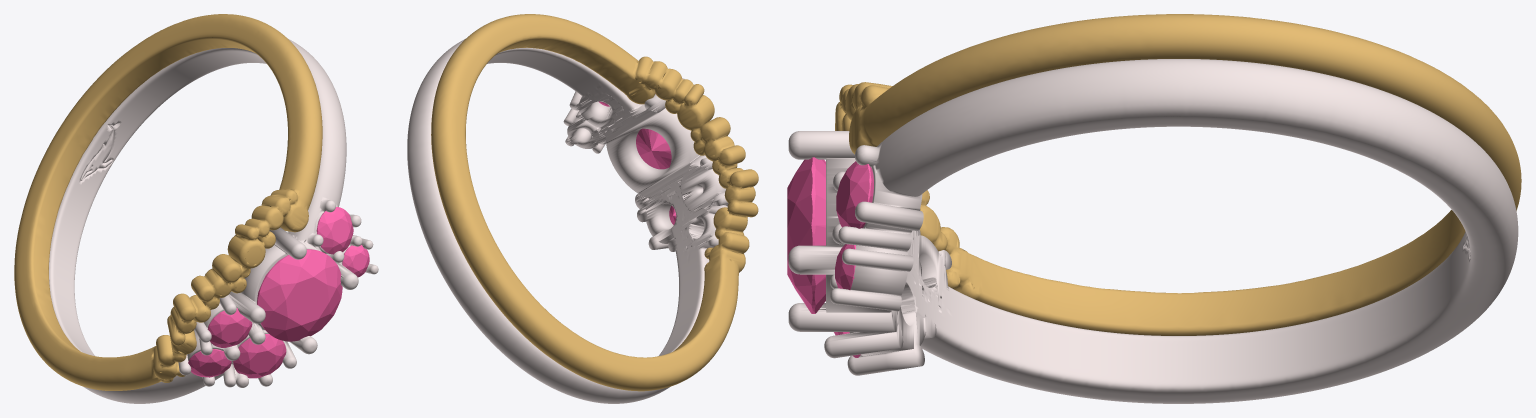
File: ringring.glb
The picture shows the model from 3 angles, left to right: view 1: azimuth 30°, elevation 25°; view 2: azimuth 150°, elevation 25°; view 3: azimuth 270°, elevation 25°; orthographic projection. The views are drawn at different scales.
Visible parts, largest first — view 1: gold, silver, diamonds004, diamonds003, diamonds, diamonds001, diamonds002, diamonds005; view 2: gold, silver, diamonds004; view 3: silver, gold, diamonds004, diamonds.
Boxes of the visible parts, x1,y1,x2,y2 form: gold: (14, 14, 322, 390); silver: (49, 39, 378, 403); diamonds004: (257, 249, 342, 341); diamonds003: (233, 334, 286, 378); diamonds: (316, 207, 353, 254); diamonds001: (207, 308, 252, 347); diamonds002: (188, 349, 231, 377); diamonds005: (342, 245, 369, 277); gold: (431, 14, 758, 391); silver: (407, 39, 728, 403); diamonds004: (636, 128, 671, 169); silver: (788, 59, 1518, 403); gold: (835, 14, 1521, 335); diamonds004: (787, 157, 825, 313); diamonds: (836, 161, 873, 228).
Bounding box in the file's own units: 1.89 × 2.24 × 2.81.
